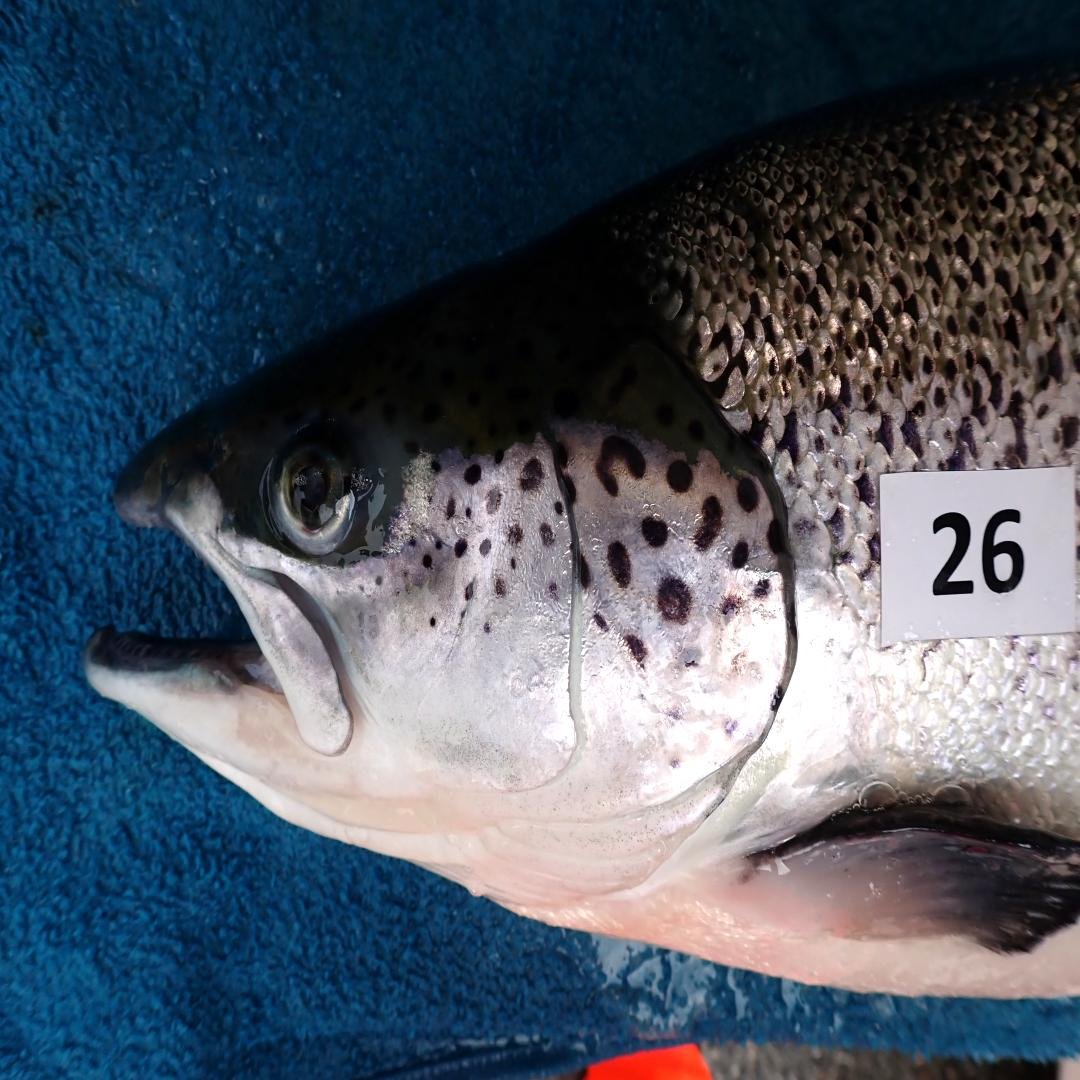roi: (351, 424, 791, 917)
